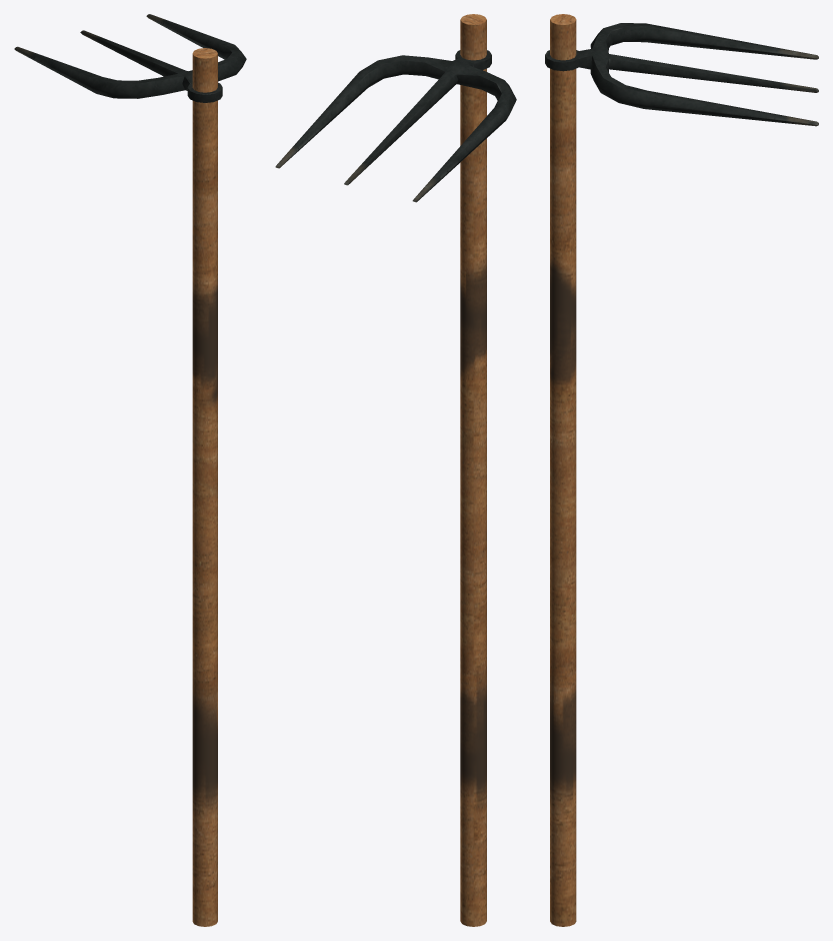
File: FarmEquip_RakeHow.fbx
3 views of the same model, side by side, from view 1: azimuth 30°, elevation 25°; view 2: azimuth 150°, elevation 25°; view 3: azimuth 270°, elevation 25° (orthographic). The views are drawn at different scales.
Visible parts, largest first — view 1: FarmEquip_RakeHow; view 2: FarmEquip_RakeHow; view 3: FarmEquip_RakeHow.
Boxes of the visible parts, x1,y1,x2,y2 form: FarmEquip_RakeHow: (14,14,246,926); FarmEquip_RakeHow: (275,14,516,926); FarmEquip_RakeHow: (545,14,818,926).
Size of the model in its own units: 0.1865 by 1.05 by 0.2884.
